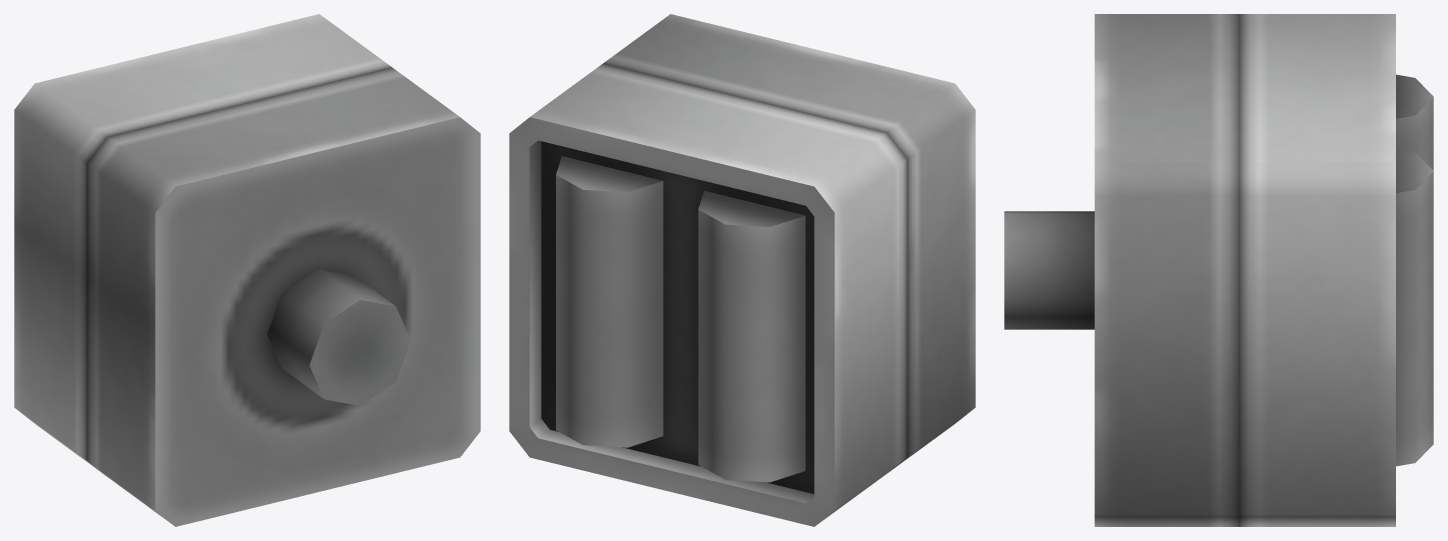
File: Ara_SensorBarometer_1.obj
The picture shows the model from 3 angles, left to right: view 1: azimuth 30°, elevation 25°; view 2: azimuth 150°, elevation 25°; view 3: azimuth 270°, elevation 25°; orthographic projection. The views are drawn at different scales.
Visible parts, largest first — view 1: Ara_SensorBarometer_1; view 2: Ara_SensorBarometer_1; view 3: Ara_SensorBarometer_1.
Part boxes in pixels (x1=…): Ara_SensorBarometer_1: x1=14, y1=14, x2=480, y2=526; Ara_SensorBarometer_1: x1=509, y1=14, x2=975, y2=526; Ara_SensorBarometer_1: x1=1004, y1=14, x2=1433, y2=526.
Bounding box in the file's own units: 0.2 × 0.2 × 0.2137.
